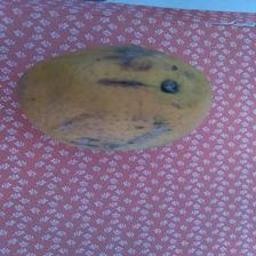Orange Semifresh: (20, 35, 222, 158)
